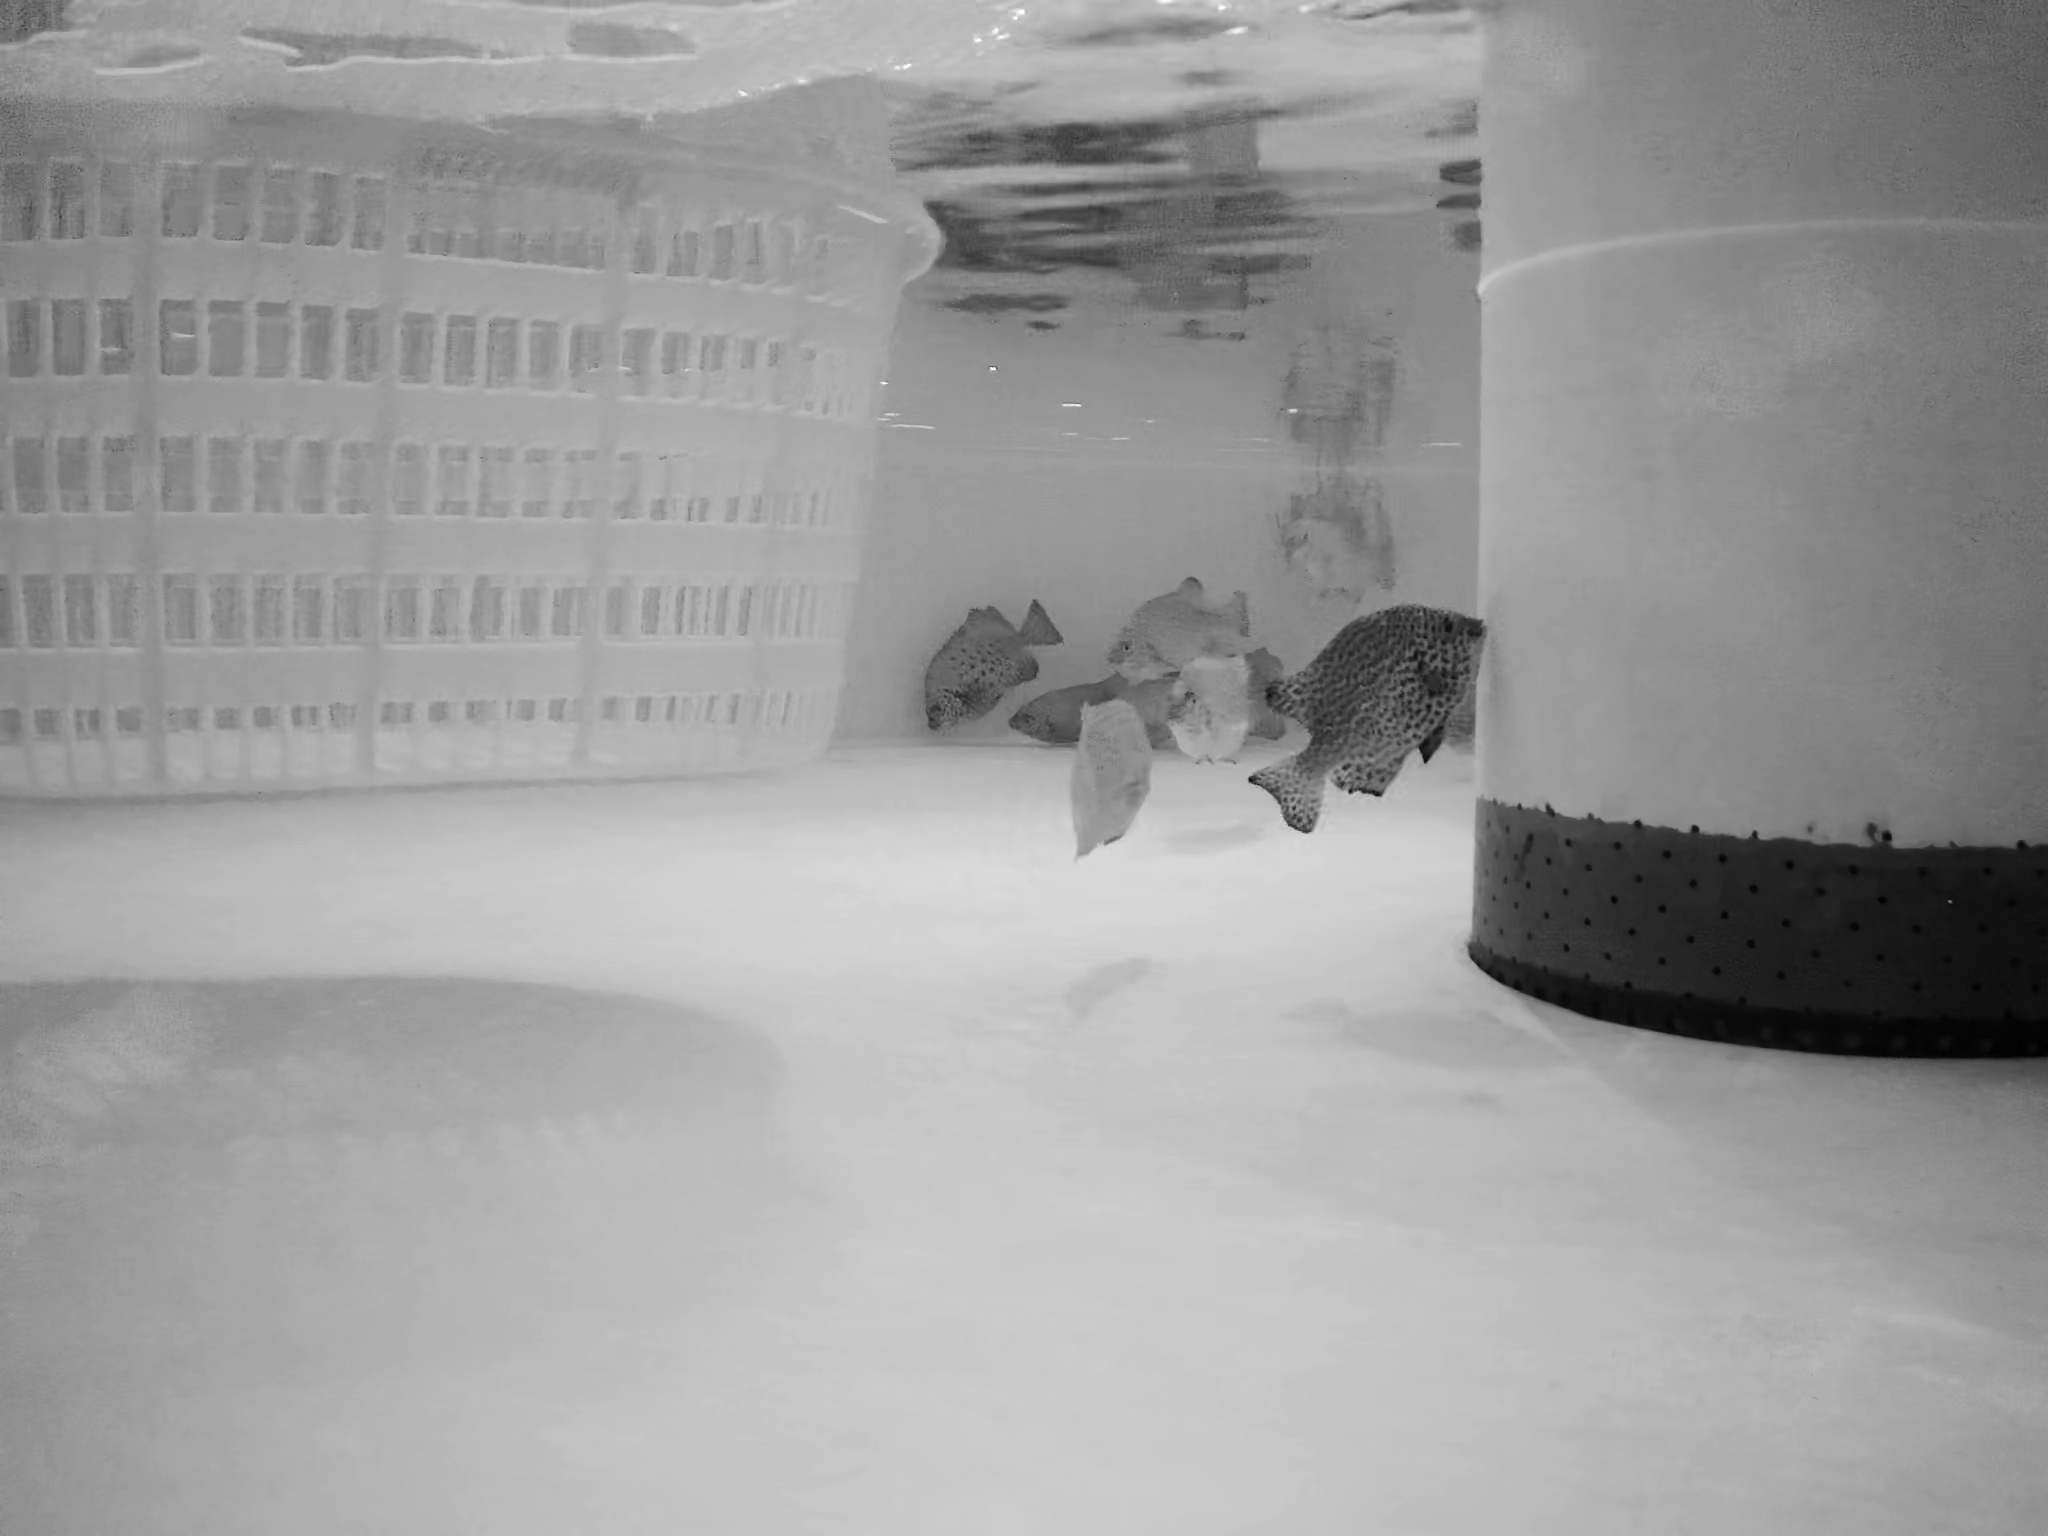fish: (1268, 592, 1492, 834), (911, 586, 1072, 731), (1174, 644, 1295, 778), (1061, 694, 1156, 850), (1111, 574, 1259, 668), (995, 692, 1150, 758)
